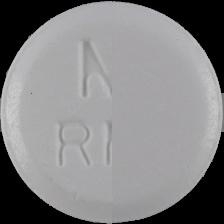51079-345: (0, 0, 224, 224)
